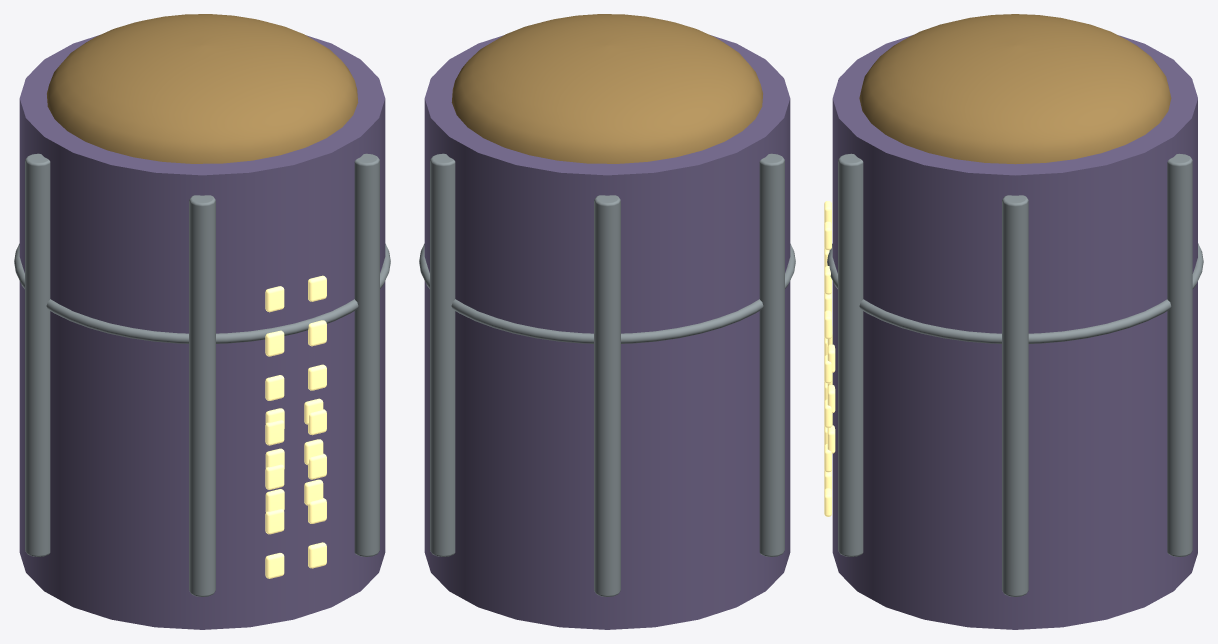
The picture shows the model from 3 angles, left to right: view 1: azimuth 30°, elevation 25°; view 2: azimuth 150°, elevation 25°; view 3: azimuth 270°, elevation 25°; orthographic projection.
Visible parts, largest first — view 1: Cylindrical tower, Workshop gold roof, Workshop exterior rib.004, Workshop exterior rib.003, Workshop exterior rib.005, Tower seam; view 2: Cylindrical tower, Workshop gold roof, Workshop exterior rib.002, Workshop exterior rib.001, Workshop exterior rib.003, Tower seam; view 3: Cylindrical tower, Workshop gold roof, Workshop exterior rib, Workshop exterior rib.001, Workshop exterior rib.005, Tower seam.
Boxes of the visible parts, bbox=[...] form: Cylindrical tower: bbox=[19, 35, 385, 629]; Workshop gold roof: bbox=[47, 14, 358, 163]; Workshop exterior rib.004: bbox=[189, 195, 215, 596]; Workshop exterior rib.003: bbox=[25, 153, 50, 556]; Workshop exterior rib.005: bbox=[354, 153, 379, 556]; Tower seam: bbox=[14, 243, 390, 343]; Cylindrical tower: bbox=[424, 35, 790, 629]; Workshop gold roof: bbox=[451, 14, 762, 163]; Workshop exterior rib.002: bbox=[594, 195, 620, 596]; Workshop exterior rib.001: bbox=[430, 153, 455, 556]; Workshop exterior rib.003: bbox=[759, 153, 784, 556]; Tower seam: bbox=[419, 243, 795, 343]; Cylindrical tower: bbox=[832, 35, 1197, 629]; Workshop gold roof: bbox=[859, 14, 1171, 164]; Workshop exterior rib: bbox=[1002, 195, 1028, 596]; Workshop exterior rib.001: bbox=[1167, 153, 1192, 556]; Workshop exterior rib.005: bbox=[838, 153, 863, 556]; Tower seam: bbox=[827, 243, 1203, 343].
Size of the model in its own units: 1.82 by 2.51 by 1.7.
